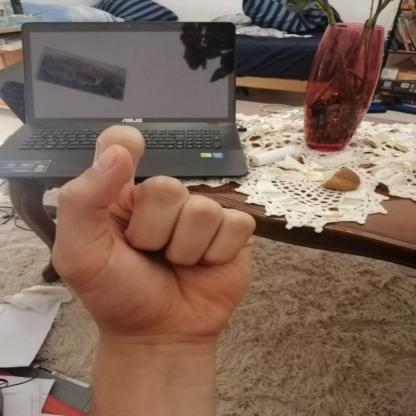FAA: (34, 111, 280, 353)
